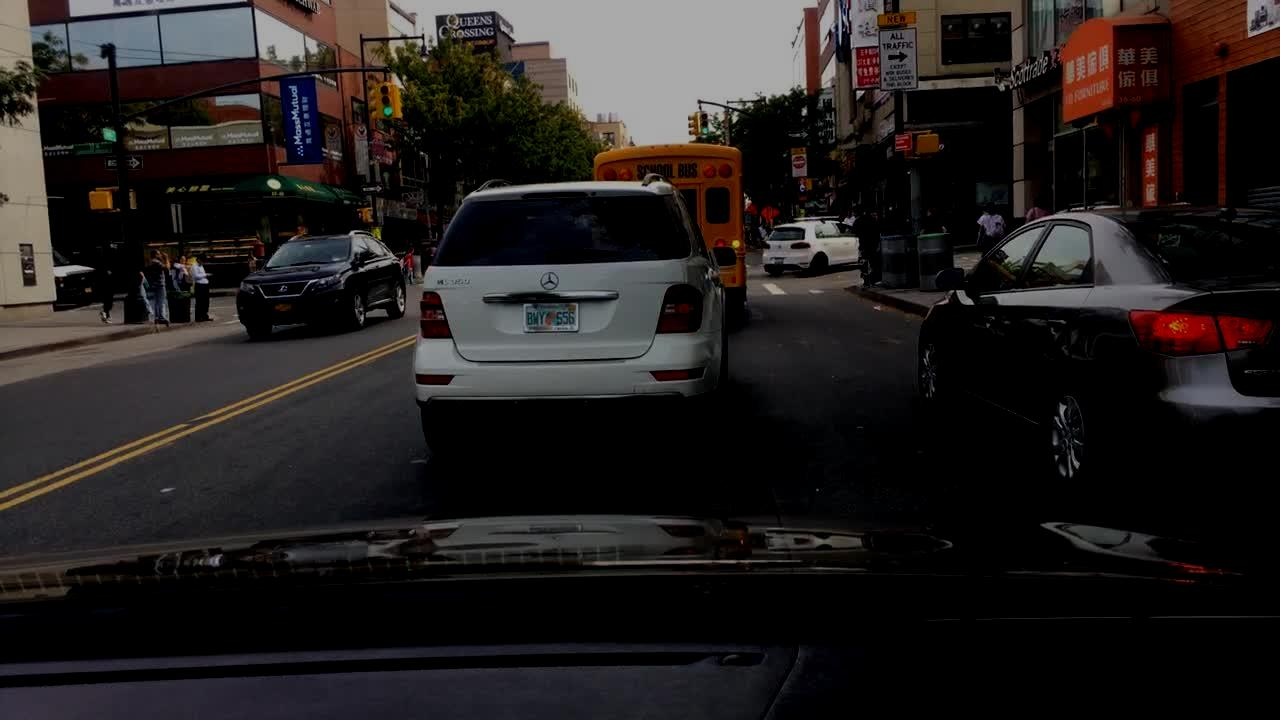Mercedes: (540, 270, 560, 289)
lexus: (277, 282, 291, 296)
